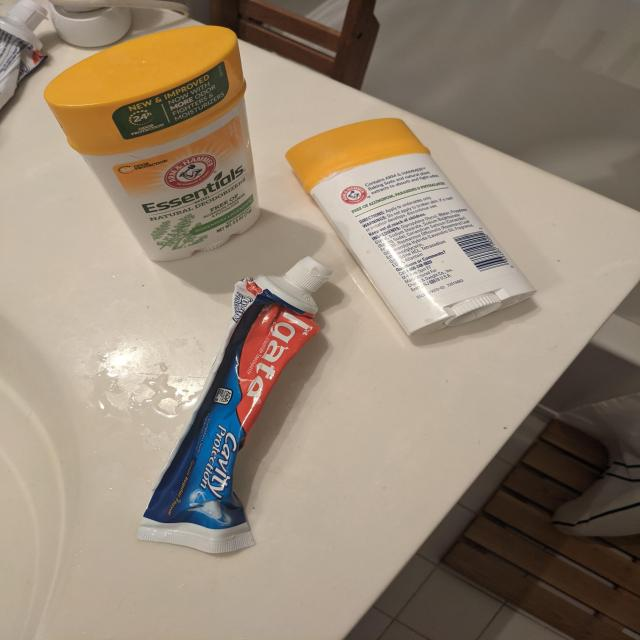litter: (140, 254, 336, 546)
